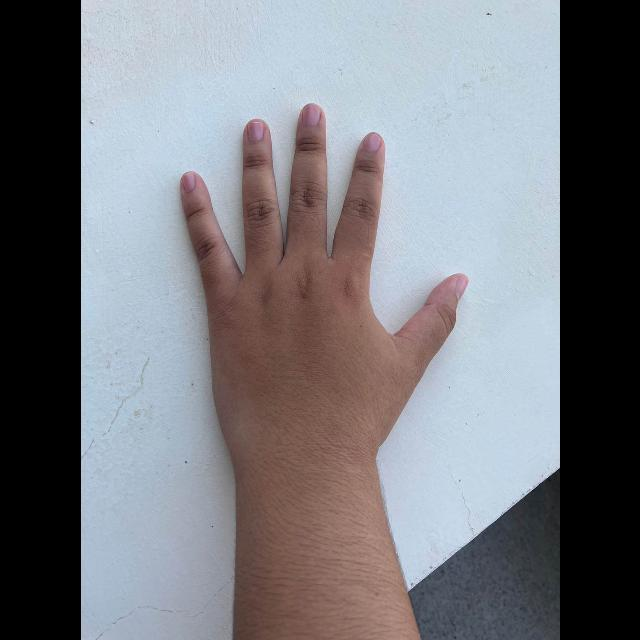bare_hand: (174, 100, 470, 445)
